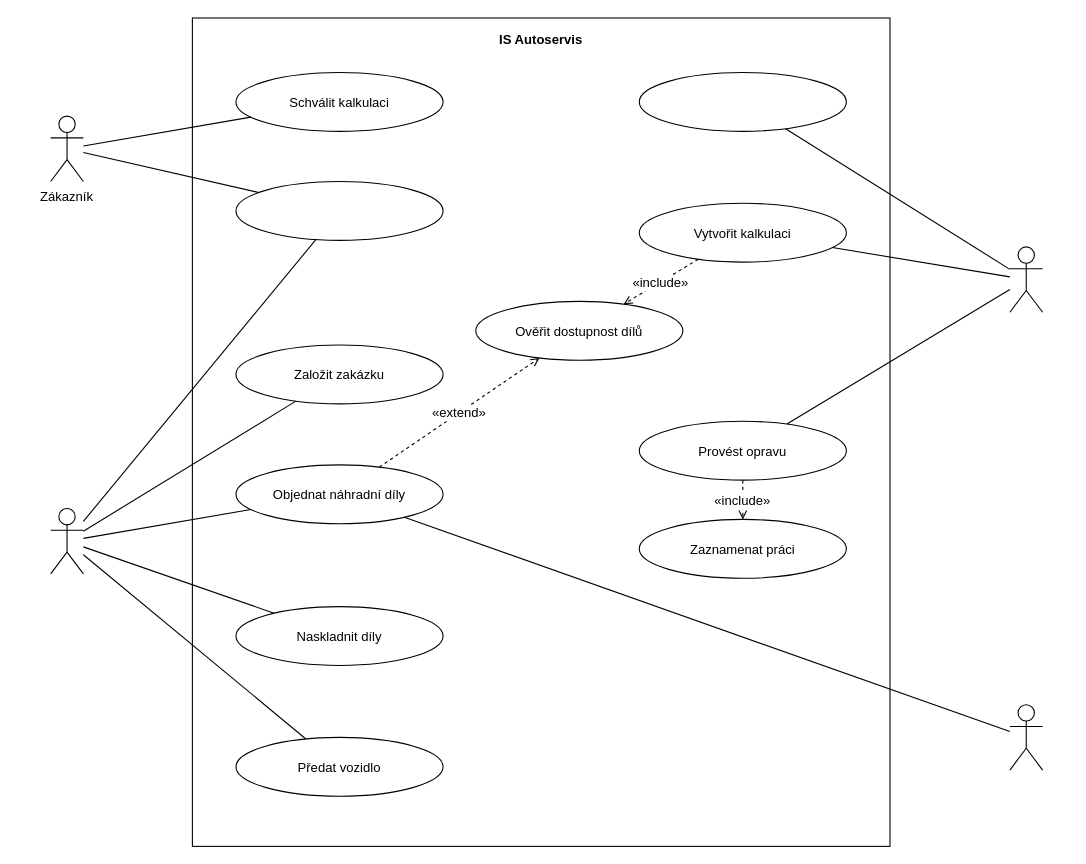
This 1086x864 diagram has some shape labels left out. The centre of each missing label's shape, as x and y in pixels:
Diagnostikovat vozidlo: (x=742, y=101)
Dodavatel dílů: (x=1026, y=737)
Mechanik: (x=1026, y=279)
Přijímací technik: (x=66, y=540)
Zaplatit zakázku: (x=339, y=210)
